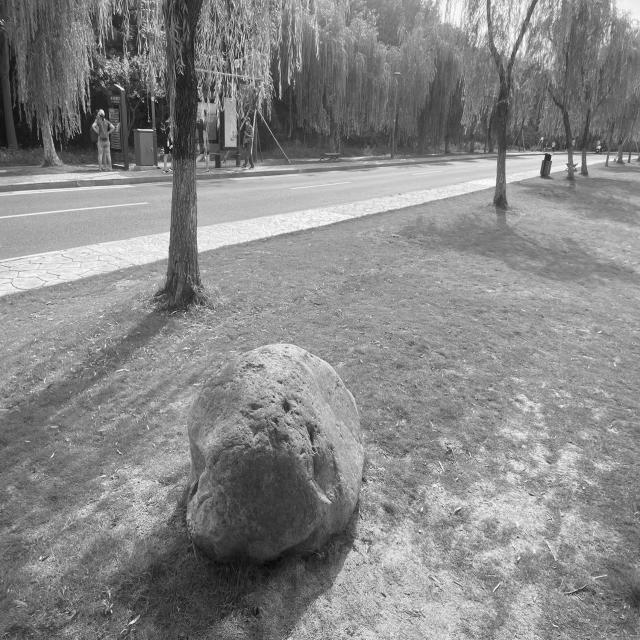Stone: (188, 344, 362, 560)
